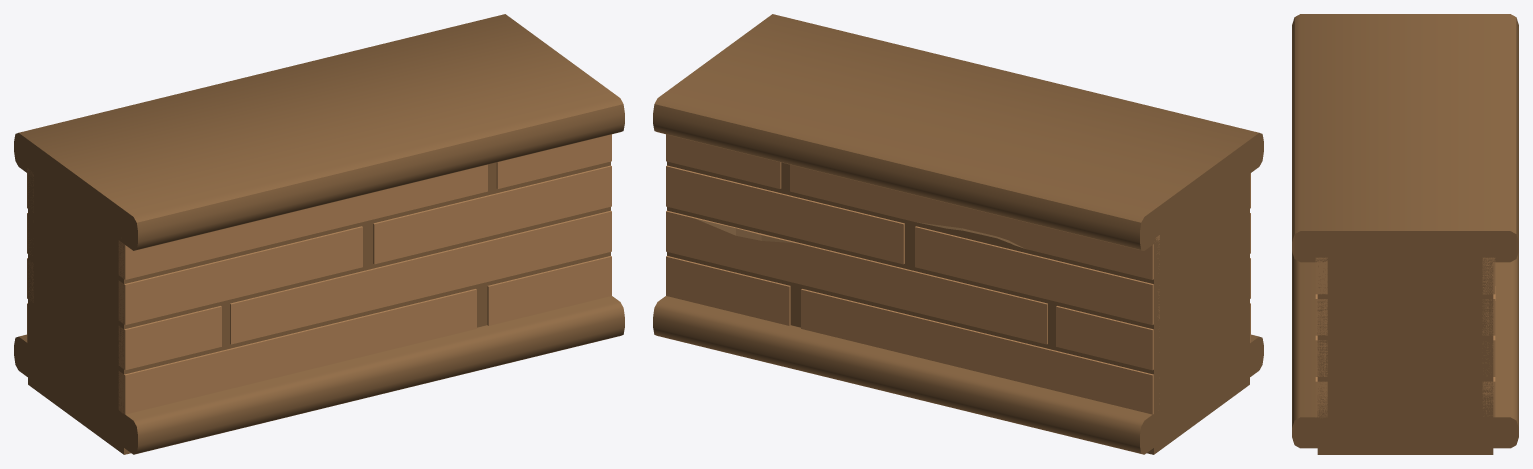
File: counter.glb
The picture shows the model from 3 angles, left to right: view 1: azimuth 30°, elevation 25°; view 2: azimuth 150°, elevation 25°; view 3: azimuth 270°, elevation 25°; orthographic projection. The views are drawn at different scales.
Parts seen in each view (by area): view 1: Environment_Counter_Straight; view 2: Environment_Counter_Straight; view 3: Environment_Counter_Straight.
Boxes of the visible parts, x1,y1,x2,y2 form: Environment_Counter_Straight: (14, 14, 624, 454); Environment_Counter_Straight: (653, 14, 1263, 454); Environment_Counter_Straight: (1292, 14, 1518, 454).
Size of the model in its own units: 4 by 1.92 by 1.77.
